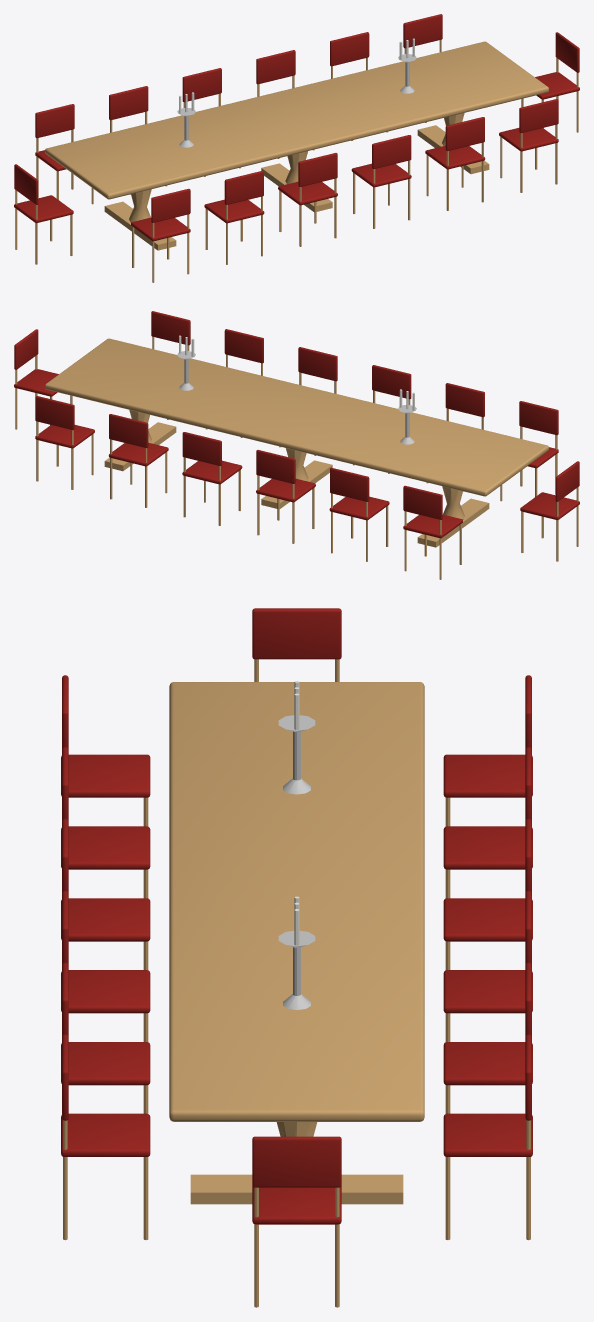
Rendered from home.mansion.banquet_table.glb.
3 renders of one model, top to bottom at view 1: azimuth 30°, elevation 25°; view 2: azimuth 150°, elevation 25°; view 3: azimuth 270°, elevation 25°, orthographic. The views are drawn at different scales.
Visible parts, largest first — view 1: table__glulam, chairs__fabric_red, chairs__glulam, table__steel_stainless, table__paint_white; view 2: table__glulam, chairs__fabric_red, chairs__glulam, table__steel_stainless, table__paint_white; view 3: table__glulam, chairs__fabric_red, chairs__glulam, table__steel_stainless.
Boxes of the visible parts, x1=… form: table__glulam: x1=45, y1=41, x2=548, y2=250; chairs__fabric_red: x1=14, y1=14, x2=579, y2=241; chairs__glulam: x1=15, y1=39, x2=578, y2=282; table__steel_stainless: x1=177, y1=54, x2=416, y2=147; table__paint_white: x1=179, y1=38, x2=414, y2=113; table__glulam: x1=45, y1=338, x2=548, y2=547; chairs__fabric_red: x1=14, y1=311, x2=579, y2=538; chairs__glulam: x1=15, y1=336, x2=578, y2=579; table__steel_stainless: x1=177, y1=351, x2=416, y2=444; table__paint_white: x1=179, y1=335, x2=414, y2=410; table__glulam: x1=169, y1=682, x2=424, y2=1204; chairs__fabric_red: x1=61, y1=608, x2=532, y2=1224; chairs__glulam: x1=63, y1=659, x2=530, y2=1307; table__steel_stainless: x1=278, y1=715, x2=315, y2=1009.
Size of the model in its own units: 5.92 by 1.28 by 2.22.
